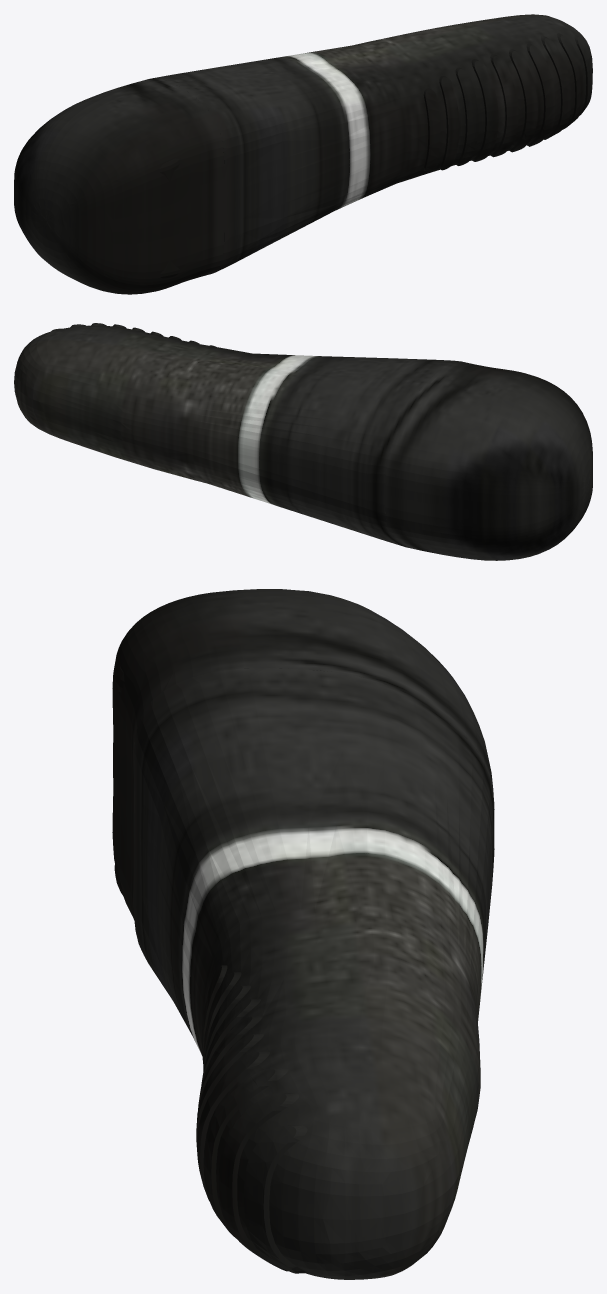
The model's file is thumb_left.obj.
The picture shows the model from 3 angles, top to bottom: view 1: azimuth 30°, elevation 25°; view 2: azimuth 150°, elevation 25°; view 3: azimuth 270°, elevation 25°; orthographic projection. The views are drawn at different scales.
Parts seen in each view (by area): view 1: Thumb.002; view 2: Thumb.002; view 3: Thumb.002.
Part boxes in pixels (left/top/right/bottom): Thumb.002: left=14, top=14, right=592, bottom=294; Thumb.002: left=14, top=323, right=592, bottom=560; Thumb.002: left=112, top=589, right=494, bottom=1279.
Size of the model in its own units: 0.0923 by 0.0266 by 0.0281.
Materials: 1 (1 with a texture image).
